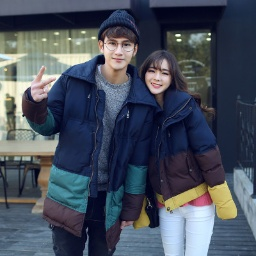face: (141, 51, 182, 97), (97, 26, 138, 70)
